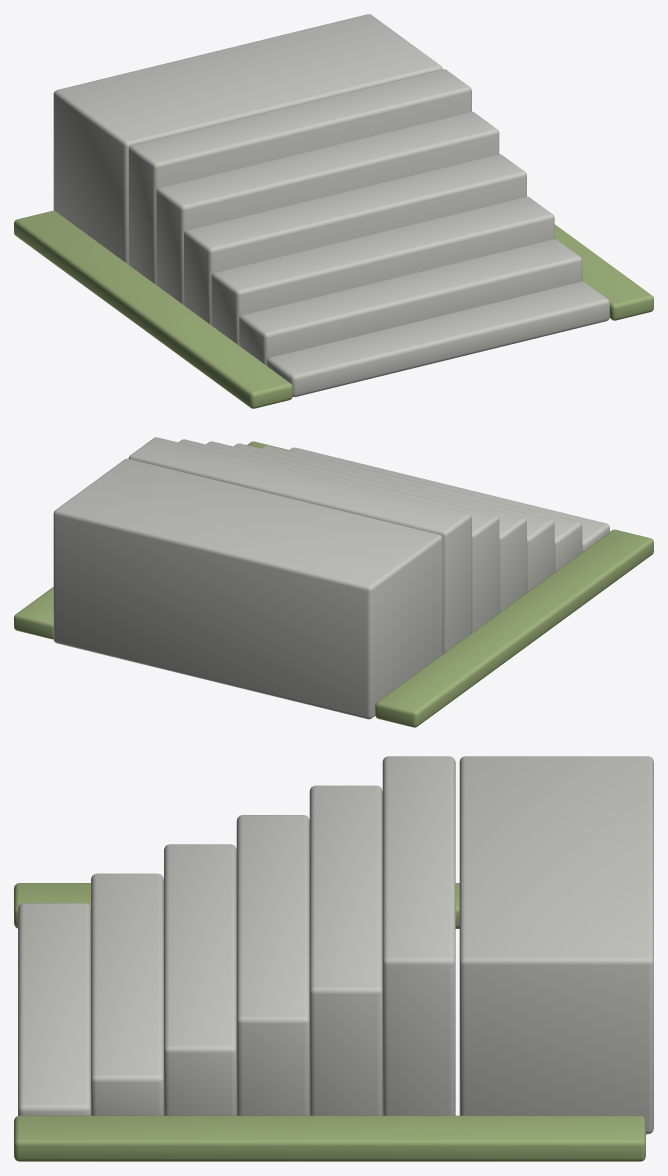
Rendered from ishidan.glb.
3 views of the same model, one above another, from view 1: azimuth 30°, elevation 25°; view 2: azimuth 150°, elevation 25°; view 3: azimuth 270°, elevation 25° (orthographic). The views are drawn at different scales.
Visible parts, largest first — view 1: ishidan; view 2: ishidan; view 3: ishidan.
Part boxes in pixels (box(x1,y1,x2,y2)): ishidan: box(14, 14, 653, 408); ishidan: box(14, 437, 653, 727); ishidan: box(14, 756, 653, 1161).
Size of the model in its own units: 3.8 by 1.2 by 3.95.
